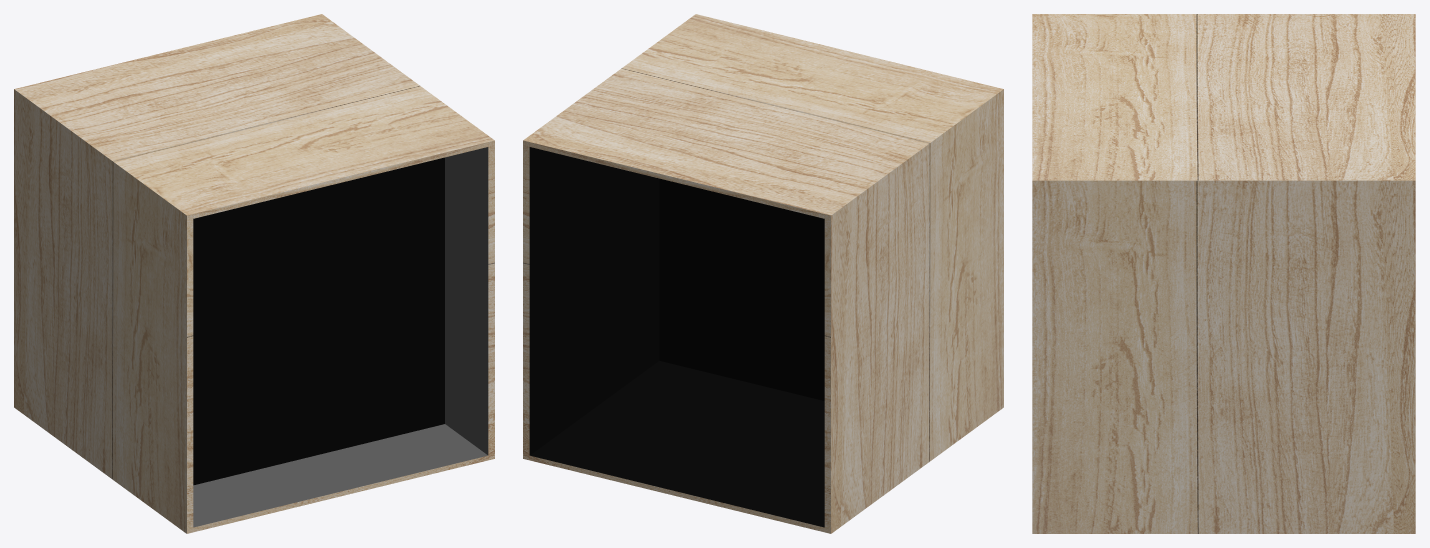
File: Frame2_wooden.glb
The picture shows the model from 3 angles, left to right: view 1: azimuth 30°, elevation 25°; view 2: azimuth 150°, elevation 25°; view 3: azimuth 270°, elevation 25°; orthographic projection. The views are drawn at different scales.
Visible parts, largest first — view 1: Material2, A_PaintingMesh, Material3.001; view 2: Material2, Material3.004; view 3: Material2.
Part boxes in pixels (x1,y1,x2,y2): Material2: [14, 14, 494, 533]; A_PaintingMesh: [193, 157, 444, 485]; Material3.001: [193, 147, 488, 527]; Material2: [523, 14, 1003, 533]; Material3.004: [529, 147, 824, 527]; Material2: [1032, 14, 1415, 533].
Size of what is drawn, in the model's own units: 1.05 by 1.03 by 1.02.
5 materials, 2 textured.
